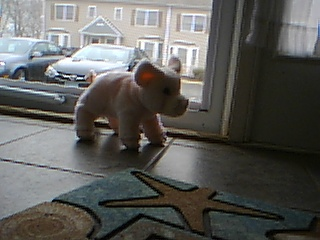piggy: (72, 54, 191, 153)
